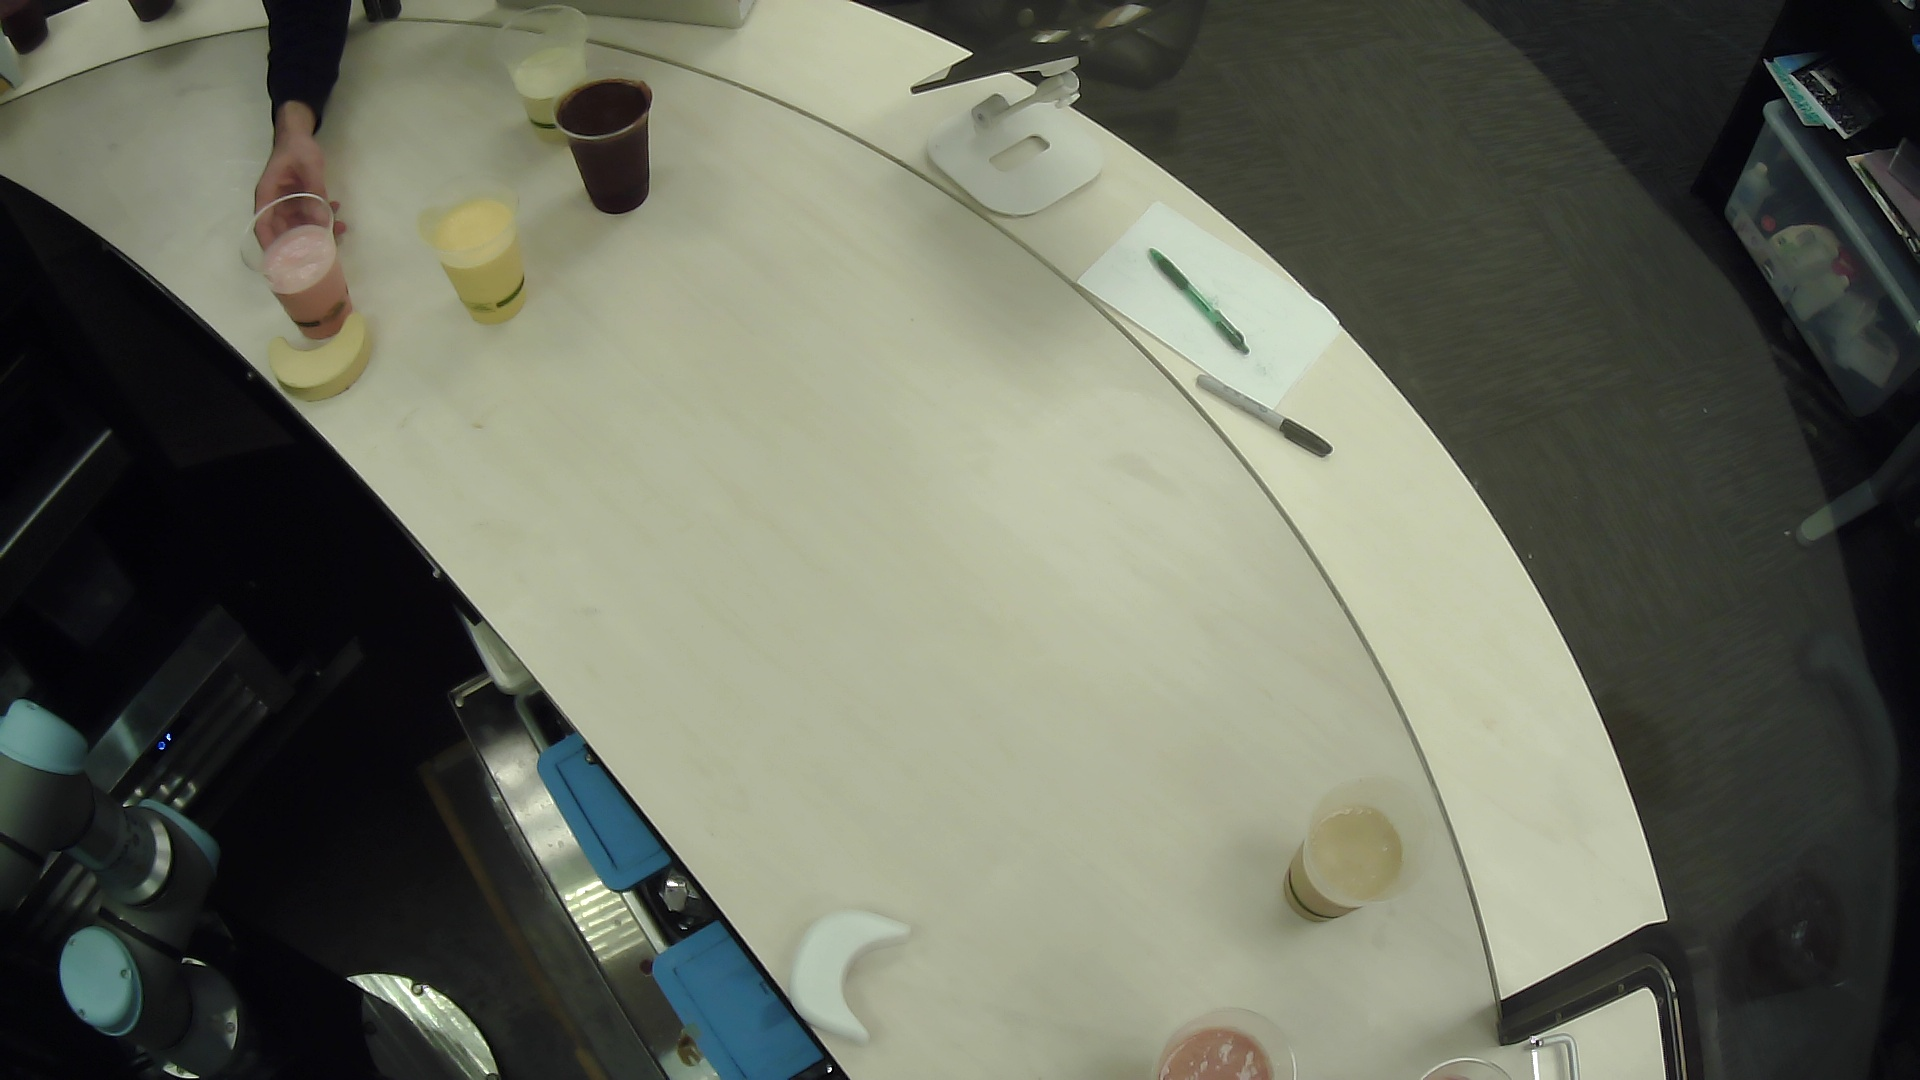Deliver: (775, 897, 931, 1069), (248, 307, 400, 413)
Full_cup: (1263, 756, 1429, 947), (229, 179, 373, 349), (479, 1, 622, 158), (419, 179, 545, 343), (545, 70, 666, 222), (1130, 982, 1302, 1080), (1373, 1015, 1535, 1080)
